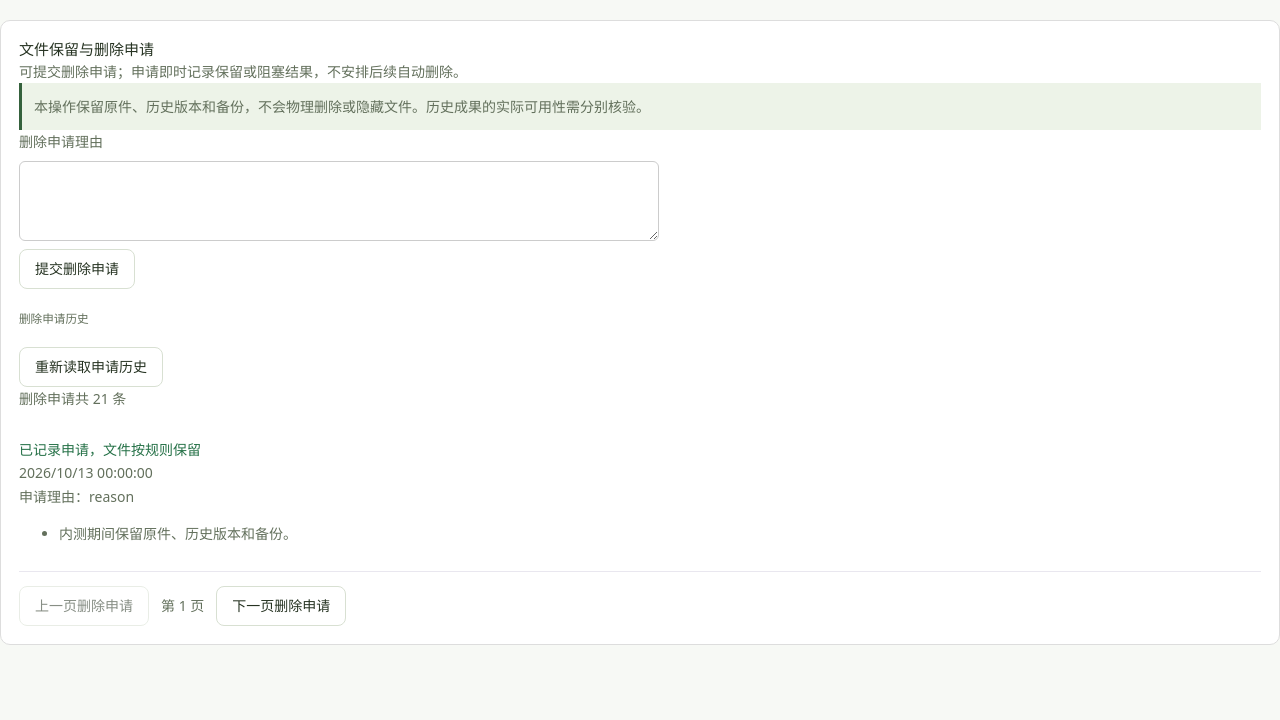
Test case: history pager uses full total independently of assessment and failed reads remain errors
Expected: the text "删除申请共 21 条" is shown, x1=19 y1=389 x2=126 y2=408
Click the button "下一页删除申请".
click(281, 606)  # box x1=216 y1=586 x2=346 y2=626
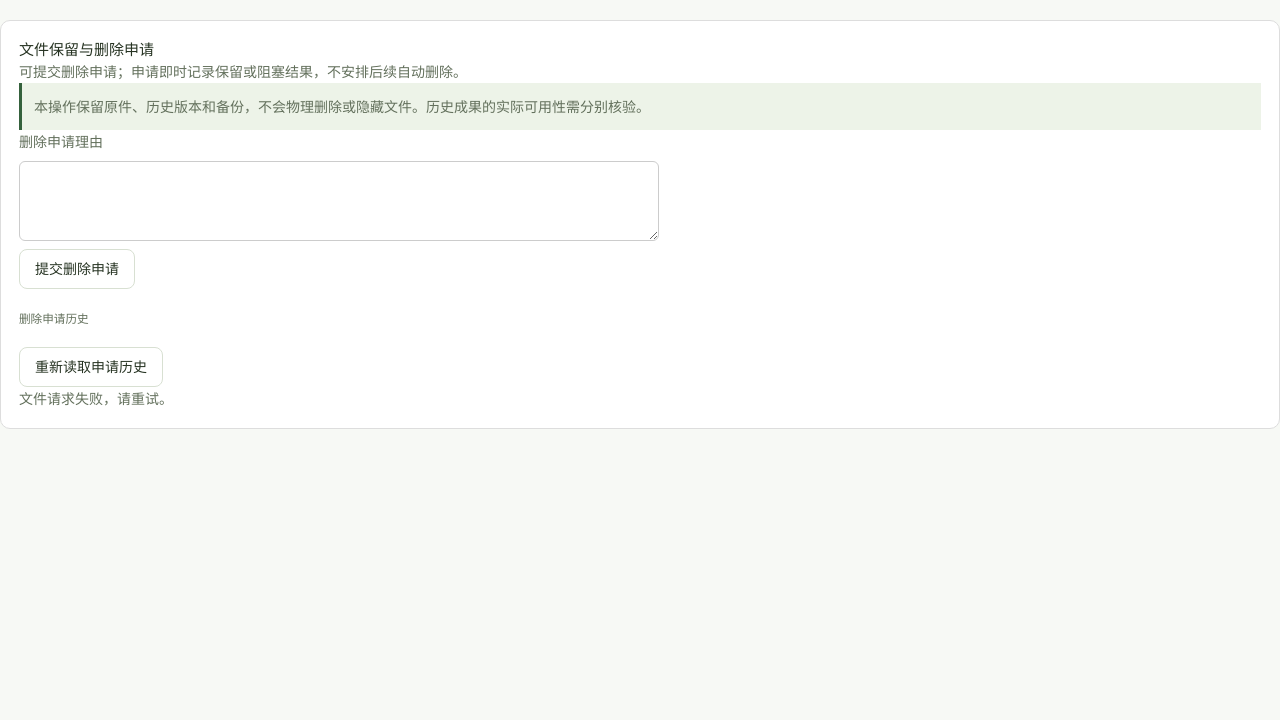
Expected: the message "文件请求失败，请重试。" is shown, x1=19 y1=389 x2=173 y2=408
